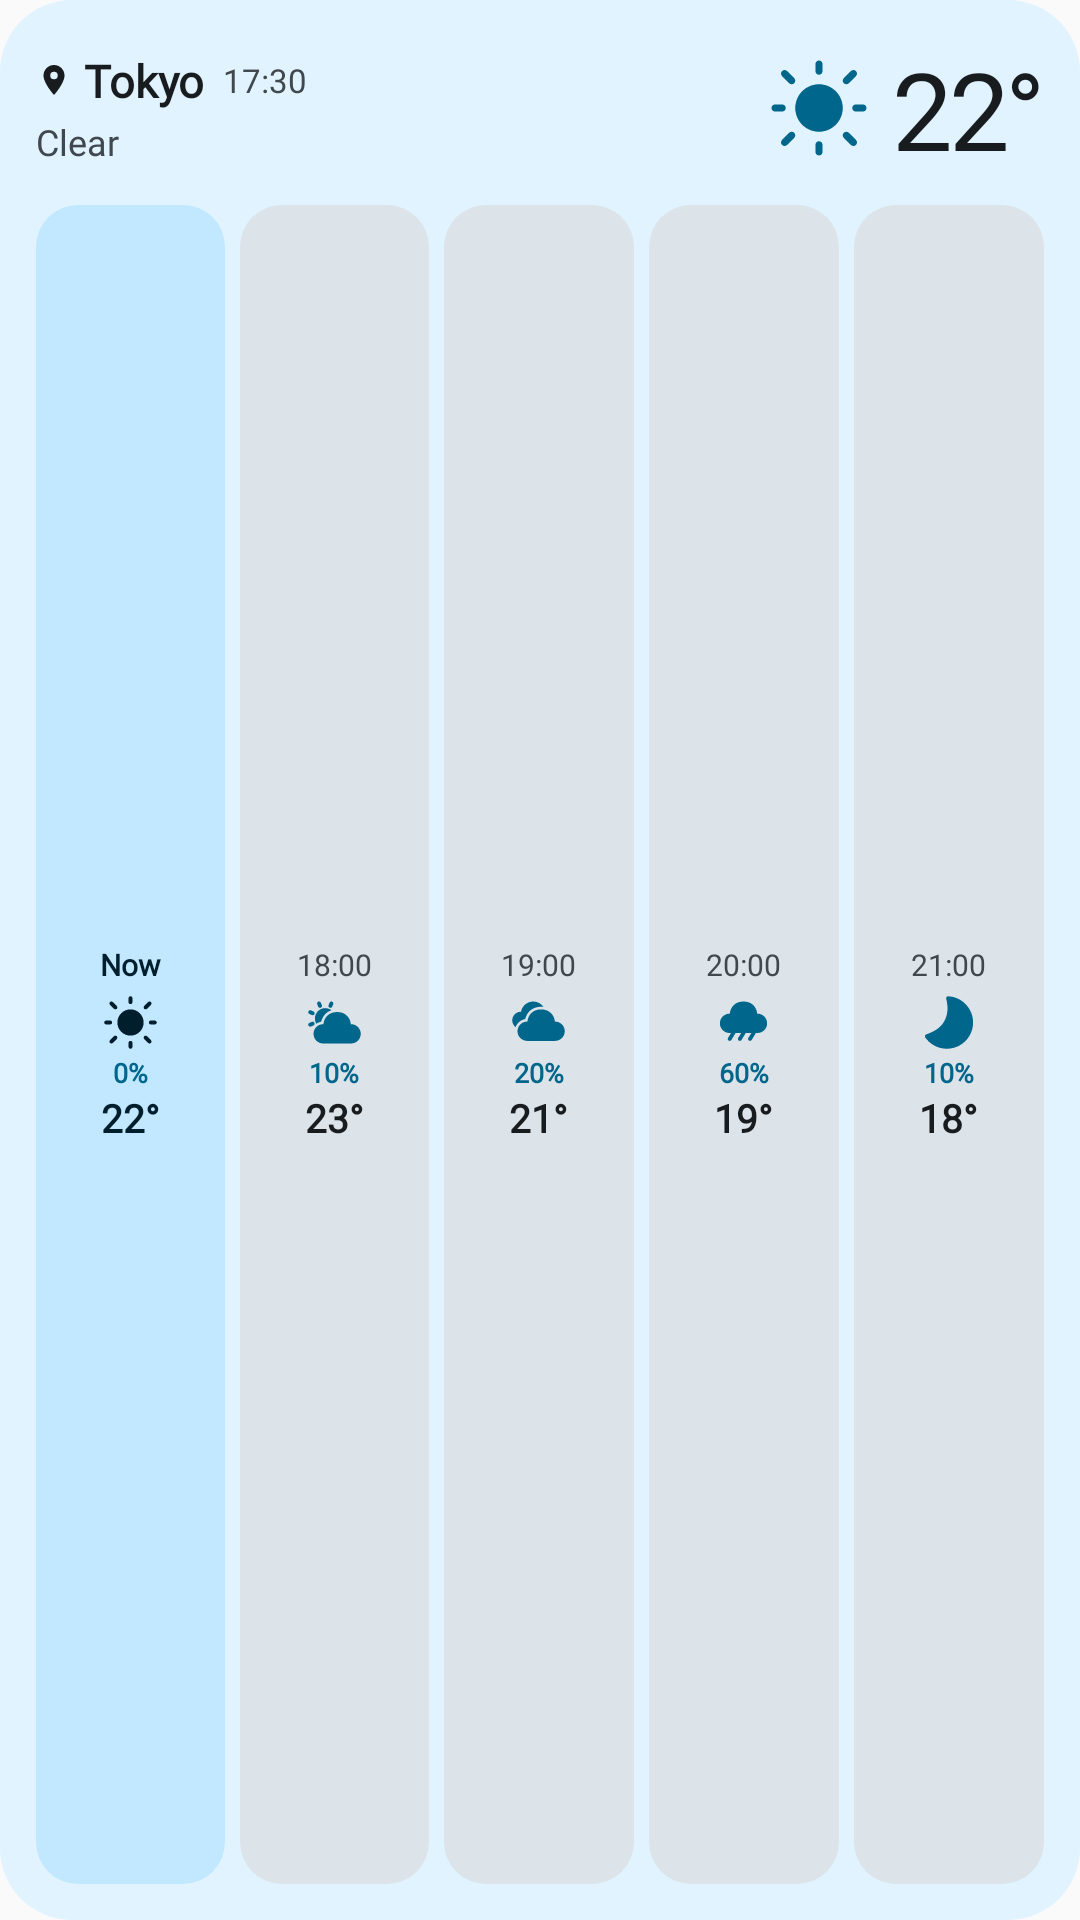

Named icons in this screenshot (1080px×1920px) and their centers, (x,y):
fluent weather cloudy: (538,1021)
fluent weather moon: (949,1022)
fluent weather rain: (743,1021)
fluent weather sunny: (819,108), (130,1022)
widget location: (54,80)
